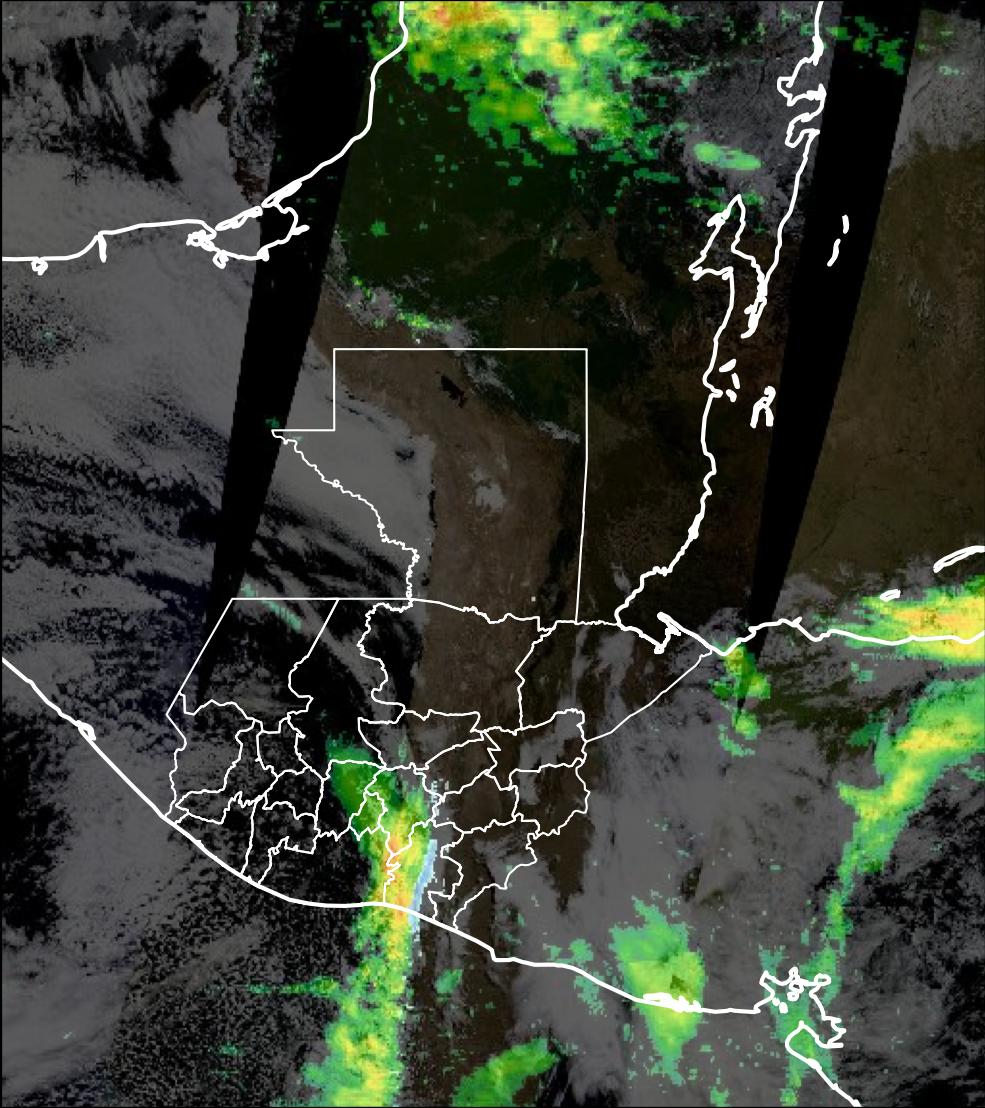precipitacion: (864, 584, 985, 663), (414, 1, 519, 65)
